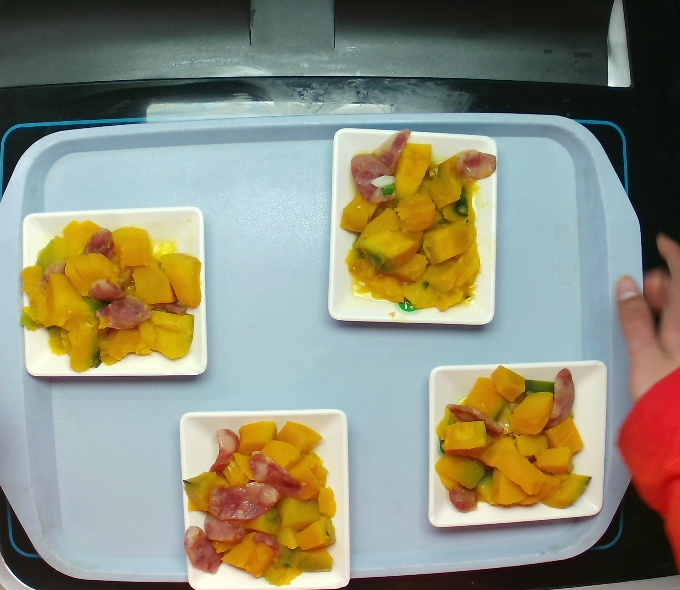wcq-NanGuaChaoXiangChang: (332, 125, 497, 323), (12, 218, 209, 378), (188, 422, 337, 580), (439, 377, 586, 510)
